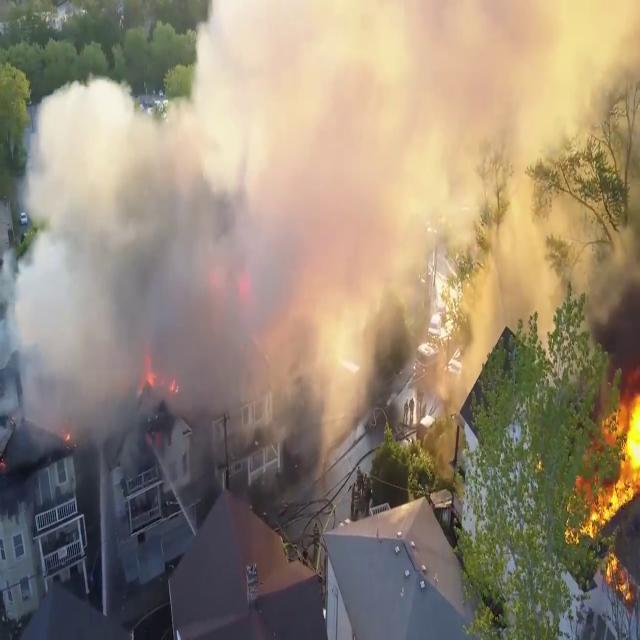Fire: (579, 384, 640, 560)
Smoke: (0, 2, 554, 451)
